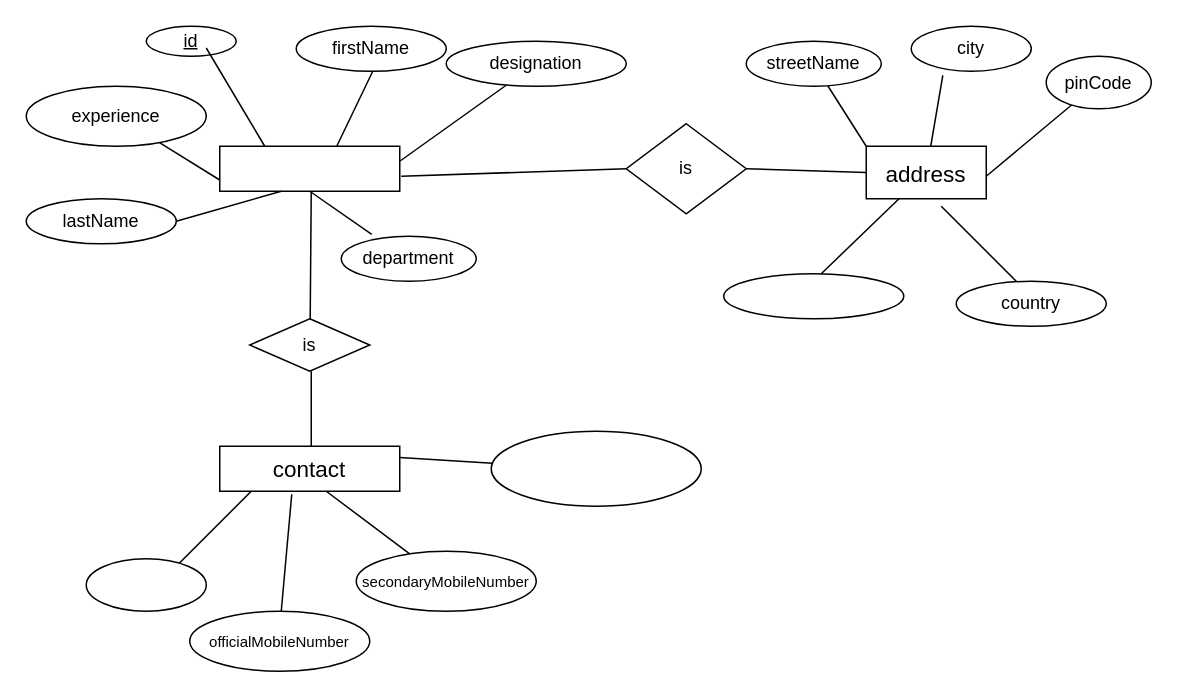
Some shapes in this 1178 by 698 pixel diagram are drawn without their labels. The shapes that lost their labels are listed below. From the top down, each one's box as (x1, y1, x2, y2) in pixels, then its label:
(218, 145, 400, 191): register
(722, 272, 904, 319): state
(490, 430, 701, 506): primaryMobileNumber
(85, 557, 206, 611): faxNumber
